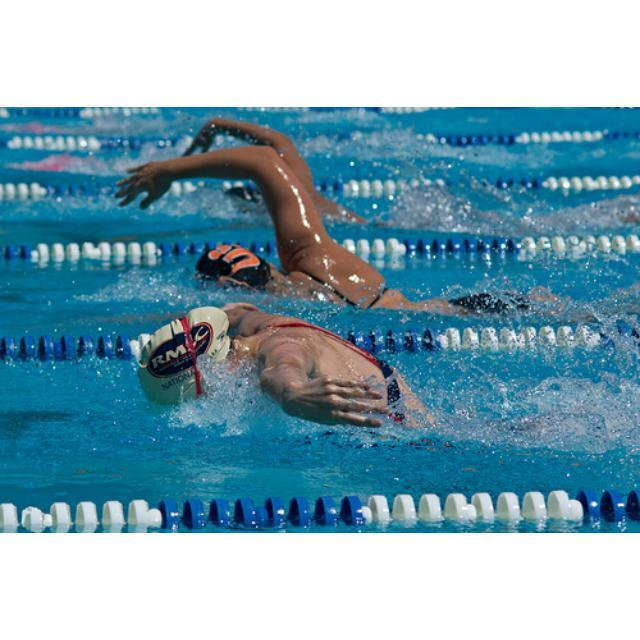human: (120, 137, 451, 316), (136, 286, 424, 438)
